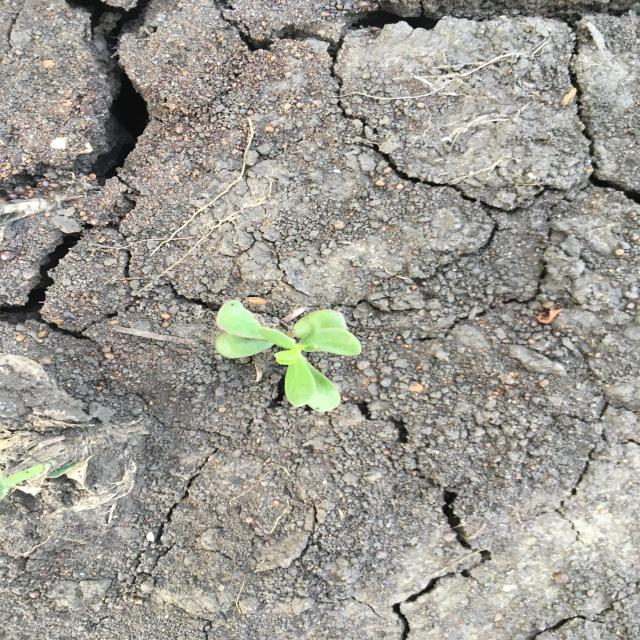Purslane: (210, 296, 364, 417)
